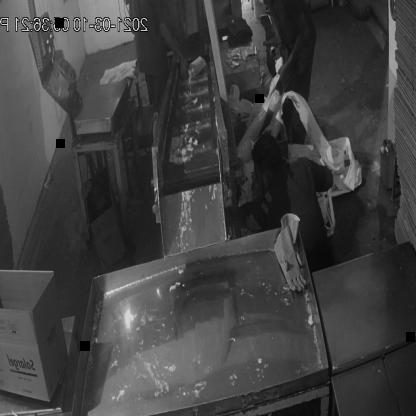no_glove: (272, 9, 312, 90), (155, 21, 194, 83)
